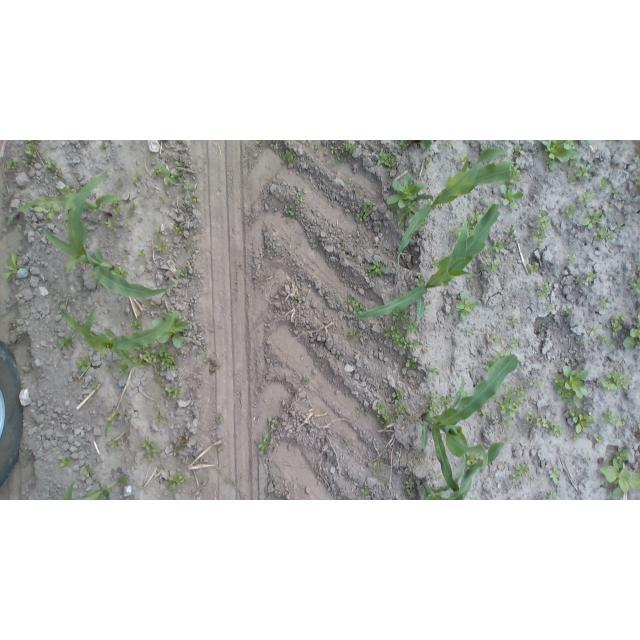Maize: (346, 204, 502, 318), (44, 169, 176, 297), (394, 147, 514, 266), (421, 355, 519, 500), (53, 286, 173, 366), (420, 441, 505, 500), (8, 186, 126, 226), (60, 476, 128, 501)
Weeds: (387, 173, 434, 212), (599, 455, 640, 496), (552, 366, 589, 409), (152, 311, 189, 348), (383, 320, 421, 352), (541, 141, 579, 172), (136, 344, 179, 371), (455, 291, 481, 321), (567, 404, 594, 432), (532, 210, 552, 247), (330, 141, 358, 166), (600, 370, 631, 390), (622, 314, 640, 348), (500, 185, 524, 210), (2, 252, 22, 280), (499, 391, 521, 415), (142, 436, 162, 462), (580, 208, 606, 228), (568, 164, 591, 185), (541, 418, 565, 438), (22, 140, 39, 168), (34, 203, 61, 220), (607, 312, 626, 336), (466, 212, 484, 237), (485, 240, 508, 258), (347, 294, 366, 315), (601, 409, 623, 427), (366, 260, 386, 279), (254, 433, 270, 456), (357, 202, 374, 223), (392, 305, 411, 323), (377, 152, 397, 169), (166, 472, 187, 488), (507, 162, 522, 184), (55, 332, 75, 348), (513, 466, 530, 483), (76, 355, 92, 373), (426, 393, 438, 417), (523, 412, 541, 428), (594, 228, 615, 241), (465, 451, 479, 470), (393, 401, 408, 418), (561, 204, 578, 219), (155, 240, 172, 255), (184, 193, 202, 207), (163, 384, 181, 398), (162, 168, 176, 185), (537, 282, 551, 299), (548, 465, 560, 484), (381, 414, 396, 429), (597, 296, 611, 312), (599, 336, 616, 349), (629, 277, 640, 297), (397, 213, 411, 228), (579, 191, 594, 205), (112, 266, 128, 279), (450, 226, 462, 243), (283, 205, 298, 218), (131, 355, 148, 366), (82, 463, 95, 477), (438, 396, 452, 409), (281, 149, 294, 163), (614, 448, 628, 461), (526, 260, 539, 274), (347, 327, 360, 340), (504, 224, 517, 237), (590, 324, 603, 337), (108, 201, 120, 215), (515, 387, 527, 401), (129, 318, 143, 330), (373, 403, 386, 415), (513, 144, 526, 156), (487, 260, 500, 272), (59, 457, 73, 468), (483, 359, 497, 370), (494, 350, 511, 359), (130, 199, 138, 218), (152, 165, 164, 177), (183, 179, 195, 191), (489, 334, 502, 345), (118, 360, 127, 375), (428, 366, 440, 377), (399, 141, 411, 152), (511, 338, 522, 350), (420, 140, 433, 150), (176, 267, 189, 277), (44, 159, 57, 169), (197, 344, 208, 355), (587, 270, 597, 282), (175, 168, 184, 181), (269, 418, 278, 431), (153, 226, 162, 239), (107, 218, 115, 232), (566, 254, 576, 265), (172, 224, 182, 235), (6, 159, 17, 169), (432, 258, 441, 270), (392, 391, 404, 400), (416, 274, 425, 286), (529, 379, 542, 387), (634, 146, 640, 163), (175, 158, 186, 167), (406, 478, 415, 489), (548, 492, 559, 501), (225, 478, 237, 486), (362, 485, 370, 497), (406, 360, 416, 369), (432, 472, 442, 481), (600, 179, 609, 189), (593, 434, 603, 443), (297, 190, 304, 202), (562, 306, 571, 315), (479, 410, 489, 418), (459, 154, 467, 164), (156, 410, 162, 423), (443, 141, 454, 148), (425, 158, 432, 169), (502, 419, 510, 428), (511, 316, 518, 326), (544, 306, 554, 313), (303, 375, 309, 386), (503, 382, 511, 390), (374, 459, 382, 467), (98, 142, 106, 150), (91, 382, 98, 391), (615, 223, 624, 230), (183, 242, 190, 251), (465, 275, 471, 285), (116, 177, 123, 185), (111, 440, 118, 448), (294, 294, 302, 301), (489, 393, 496, 401), (612, 190, 620, 197), (465, 328, 471, 337), (635, 175, 640, 185), (162, 308, 172, 313), (138, 249, 145, 256), (217, 416, 224, 423), (462, 391, 469, 398), (421, 220, 428, 227), (582, 339, 589, 346), (66, 183, 73, 190), (173, 448, 179, 456), (571, 277, 579, 283), (134, 174, 140, 181), (487, 201, 494, 207), (573, 435, 579, 442), (424, 302, 429, 310), (580, 140, 590, 144), (97, 281, 103, 287), (154, 368, 160, 374), (217, 446, 223, 452), (339, 245, 345, 251), (636, 262, 640, 271), (158, 197, 165, 202), (373, 471, 380, 476), (446, 177, 451, 184), (76, 189, 82, 194), (106, 364, 111, 370), (164, 419, 169, 425), (410, 489, 415, 495), (186, 259, 191, 265), (609, 204, 614, 210), (503, 158, 510, 162), (138, 218, 143, 223), (477, 380, 482, 385), (355, 408, 360, 413), (150, 301, 156, 305), (255, 140, 261, 144), (376, 415, 380, 420), (379, 228, 383, 233), (334, 355, 338, 360), (56, 168, 61, 172), (402, 231, 405, 236), (124, 224, 129, 227), (564, 341, 569, 344), (387, 482, 390, 486), (638, 424, 640, 429)
